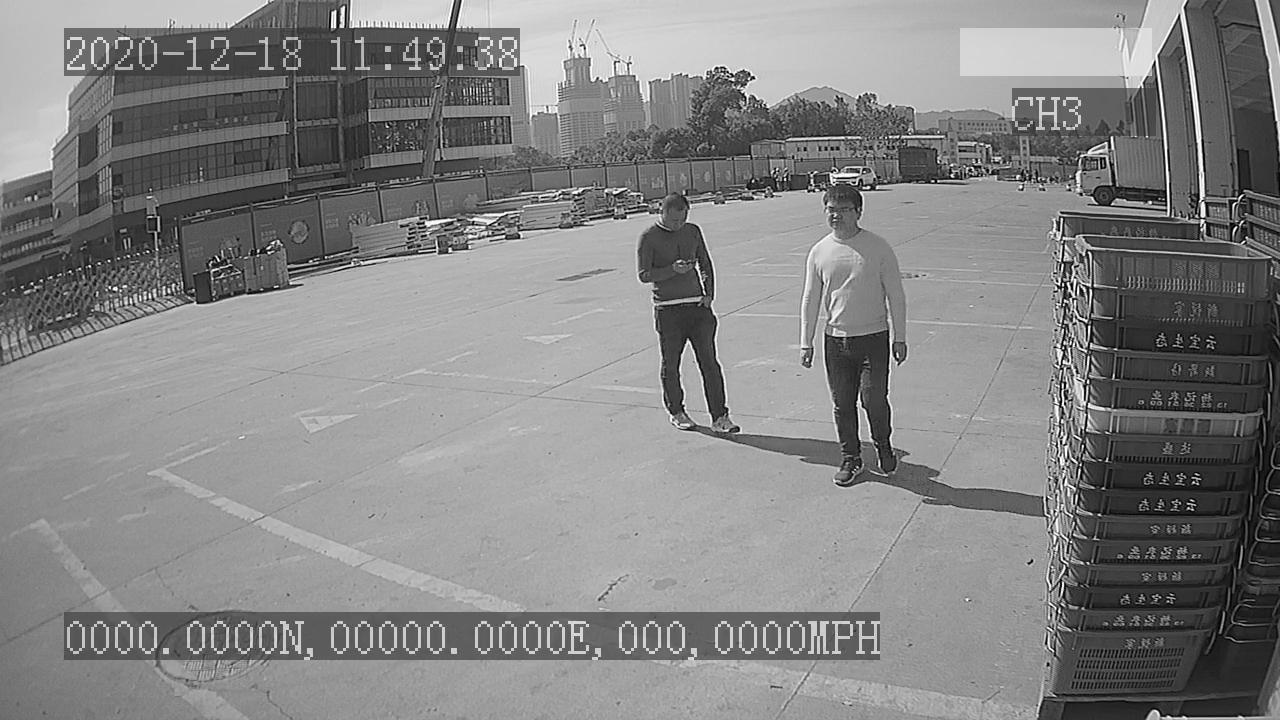person: (792, 183, 911, 488), (631, 192, 743, 440)
